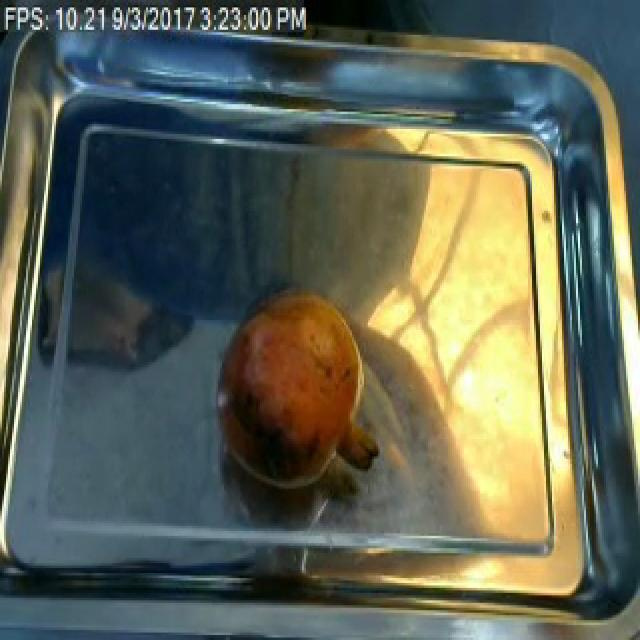fruit: (210, 278, 374, 501)
